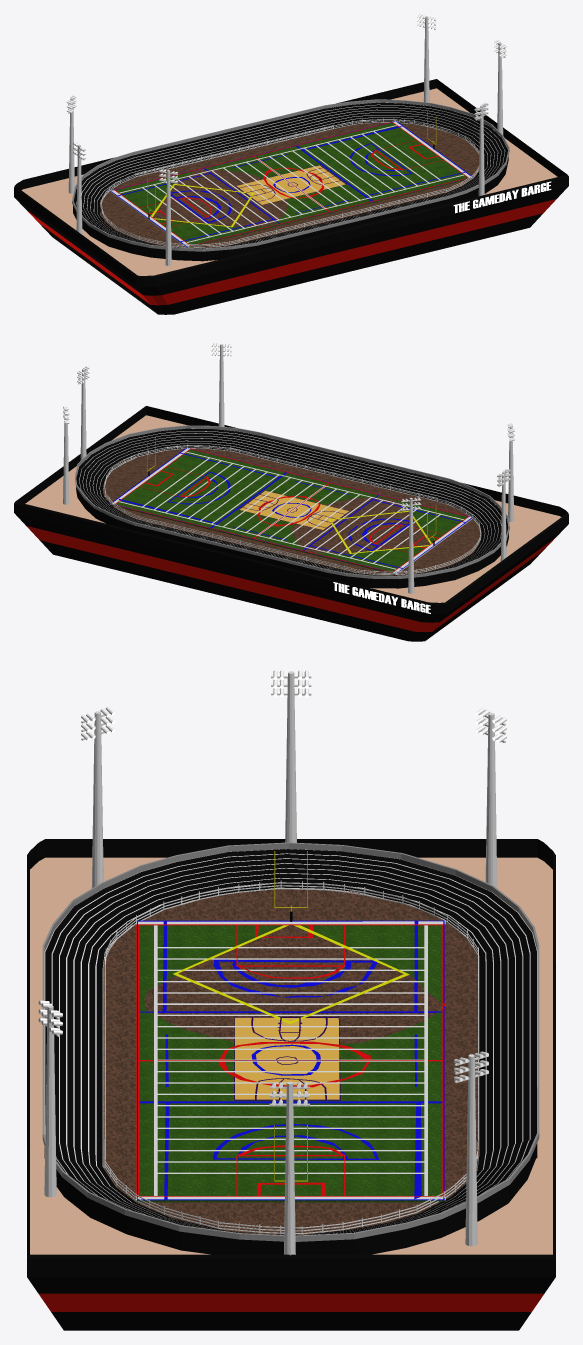
File: Sports Field.glb
3 views of the same model, one above another, from view 1: azimuth 30°, elevation 25°; view 2: azimuth 150°, elevation 25°; view 3: azimuth 270°, elevation 25° (orthographic). The views are drawn at different scales.
Parts seen in each view (by area): view 1: Barge, Field, Track, Ground, Light Post, Fence - Outer, Fences, Signs; view 2: Barge, Field, Track, Ground, Light Post, Fence - Outer, Fences, Signs; view 3: Field, Barge, Track, Ground, Light Post, Fence - Outer, Fences.
Part boxes in pixels (box(x1,y1,x2,y2)): Barge: box(14, 79, 568, 314); Field: box(109, 121, 473, 247); Track: box(73, 102, 508, 261); Ground: box(100, 122, 479, 247); Light Post: box(66, 14, 506, 265); Fence - Outer: box(72, 99, 509, 251); Fences: box(100, 118, 479, 247); Signs: box(453, 181, 551, 213); Barge: box(14, 406, 568, 641); Field: box(109, 447, 472, 574); Track: box(76, 428, 508, 588); Ground: box(103, 448, 481, 575); Light Post: box(63, 343, 514, 593); Fence - Outer: box(75, 425, 509, 578); Fences: box(104, 444, 480, 575); Signs: box(333, 582, 430, 613); Field: box(136, 920, 445, 1202); Barge: box(27, 839, 555, 1330); Track: box(44, 849, 537, 1254); Ground: box(103, 889, 478, 1235); Light Post: box(38, 670, 506, 1255); Fence - Outer: box(42, 842, 539, 1241); Fences: box(104, 880, 478, 1234).
Bounding box in the file's own units: 145 × 44.42 × 77.93.
18 materials, 2 textured.
